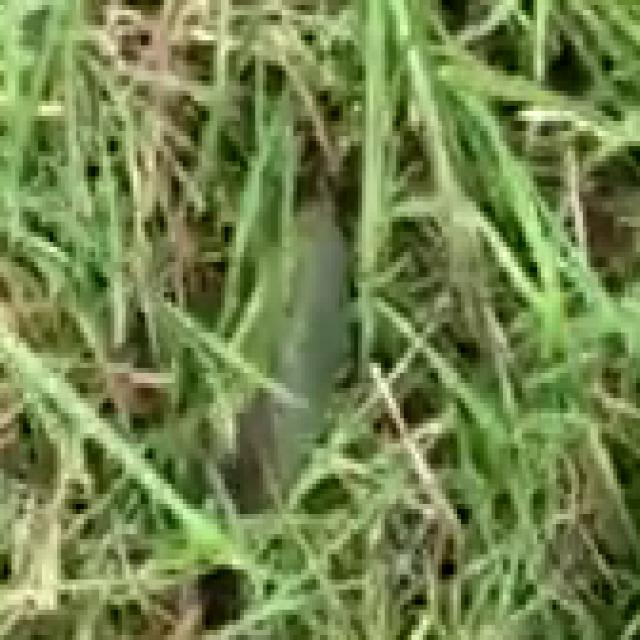organic waste: (156, 121, 476, 610)
